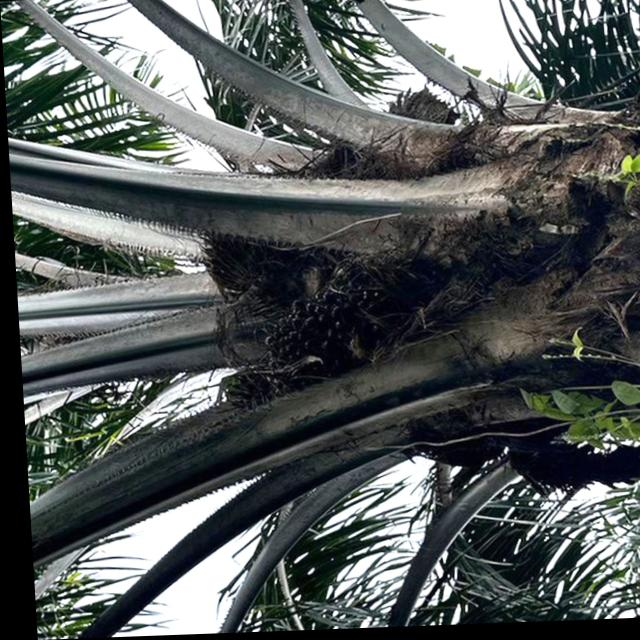almost: (249, 220, 440, 400)
